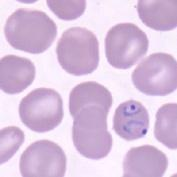Infected: (112, 99, 149, 141)
Uninfected: (4, 8, 57, 54), (72, 102, 112, 159), (56, 26, 99, 76), (20, 86, 65, 132), (105, 21, 148, 69), (132, 53, 177, 95), (20, 140, 66, 177), (69, 81, 111, 118), (0, 53, 36, 95), (124, 143, 168, 177), (136, 0, 176, 32), (153, 101, 177, 150)
